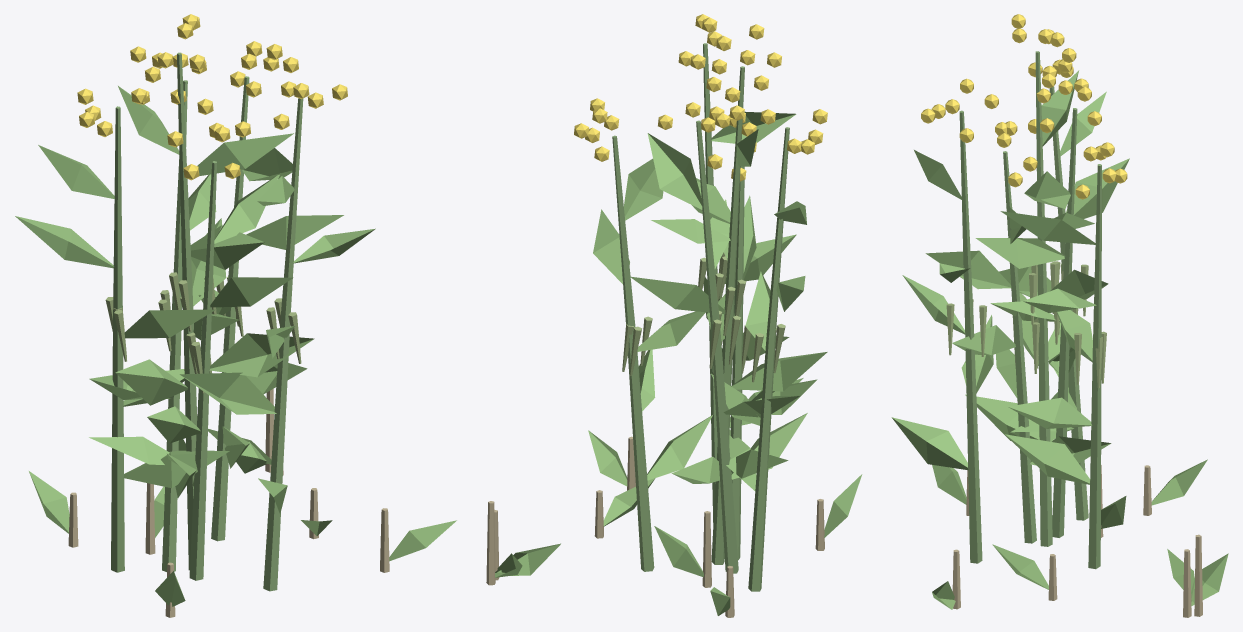
Rendered from plant-rapeseed-a.glb.
3 renders of one model, left to right at view 1: azimuth 30°, elevation 25°; view 2: azimuth 150°, elevation 25°; view 3: azimuth 270°, elevation 25°, orthographic. The views are drawn at different scales.
Visible parts, largest first — view 1: plant-rapeseed-a_full_leafB, plant-rapeseed-a_full_stemGreen, plant-rapeseed-a_fruit_rapeFlower, plant-rapeseed-a_low_leafB, plant-rapeseed-a_fruit_rapePod, plant-rapeseed-a_low_stemDry; view 2: plant-rapeseed-a_full_leafB, plant-rapeseed-a_full_stemGreen, plant-rapeseed-a_fruit_rapeFlower, plant-rapeseed-a_low_leafB, plant-rapeseed-a_fruit_rapePod, plant-rapeseed-a_low_stemDry; view 3: plant-rapeseed-a_full_leafB, plant-rapeseed-a_full_stemGreen, plant-rapeseed-a_fruit_rapeFlower, plant-rapeseed-a_low_leafB, plant-rapeseed-a_fruit_rapePod, plant-rapeseed-a_low_stemDry.
Boxes of the visible parts, x1,y1,x2,y2 form: plant-rapeseed-a_full_leafB: (15,86,375,514); plant-rapeseed-a_full_stemGreen: (111,52,303,591); plant-rapeseed-a_fruit_rapeFlower: (77,14,347,180); plant-rapeseed-a_low_leafB: (29,429,456,606); plant-rapeseed-a_fruit_rapePod: (105,272,301,393); plant-rapeseed-a_low_stemDry: (68,389,389,617); plant-rapeseed-a_full_leafB: (593,111,827,490); plant-rapeseed-a_full_stemGreen: (612,43,789,591); plant-rapeseed-a_fruit_rapeFlower: (574,14,827,181); plant-rapeseed-a_low_leafB: (495,430,862,615); plant-rapeseed-a_fruit_rapePod: (622,252,785,382); plant-rapeseed-a_low_stemDry: (486,436,824,617); plant-rapeseed-a_full_leafB: (891,70,1129,484); plant-rapeseed-a_full_stemGreen: (959,51,1101,569); plant-rapeseed-a_fruit_rapeFlower: (921,14,1127,199); plant-rapeseed-a_low_leafB: (932,459,1228,609); plant-rapeseed-a_fruit_rapePod: (946,261,1106,388); plant-rapeseed-a_low_stemDry: (952,465,1202,617).
Size of the model in its own units: 0.893 by 1.44 by 0.8447.
